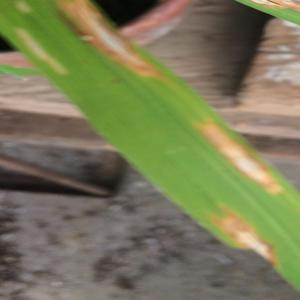Rice_Blast: (173, 182, 278, 268), (195, 107, 281, 199), (67, 4, 154, 79), (9, 19, 68, 83)
